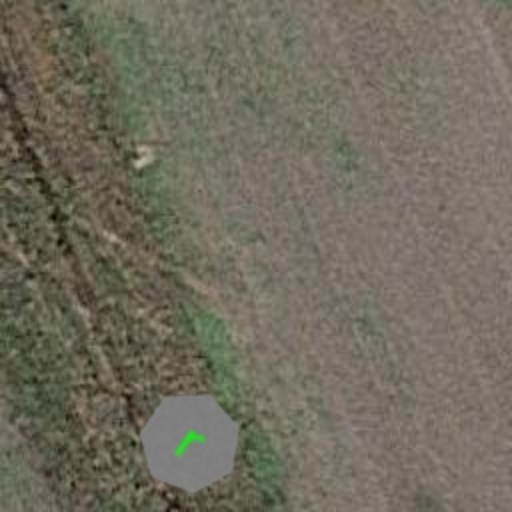heptagon: (118, 368, 262, 512)
